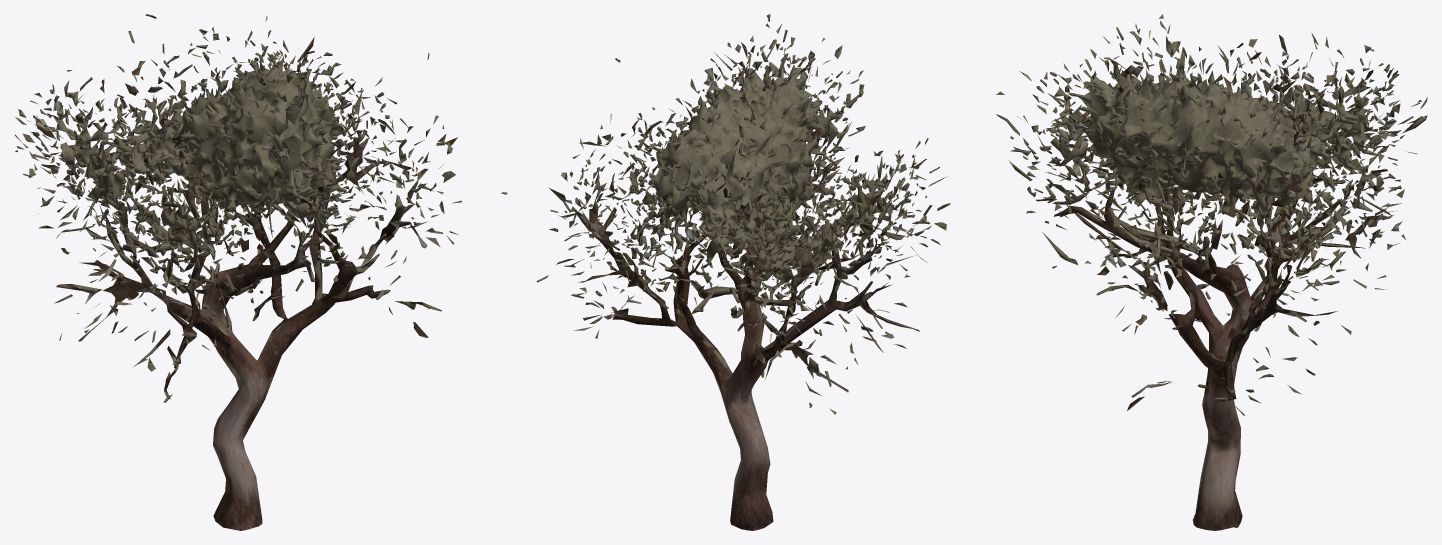
Rendered from frankincense.glb.
3 renders of one model, left to right at view 1: azimuth 30°, elevation 25°; view 2: azimuth 150°, elevation 25°; view 3: azimuth 270°, elevation 25°, orthographic. The views are drawn at different scales.
Visible parts, largest first — view 1: world; view 2: world; view 3: world.
Part boxes in pixels (x1,y1,x2,y2): world: (14,14,507,530); world: (536,14,950,530); world: (996,14,1427,530).
Bounding box in the file's own units: 1.56 × 1.95 × 1.58.
Materials: 1 (1 with a texture image).
